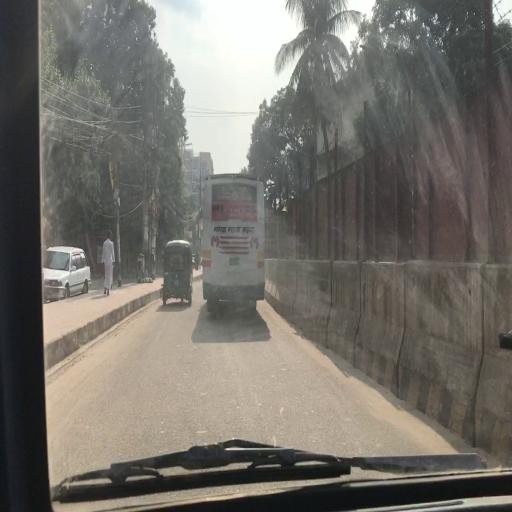bus: (201, 171, 269, 318)
car: (45, 246, 92, 304)
three wheelers (CNG): (161, 238, 194, 313)
